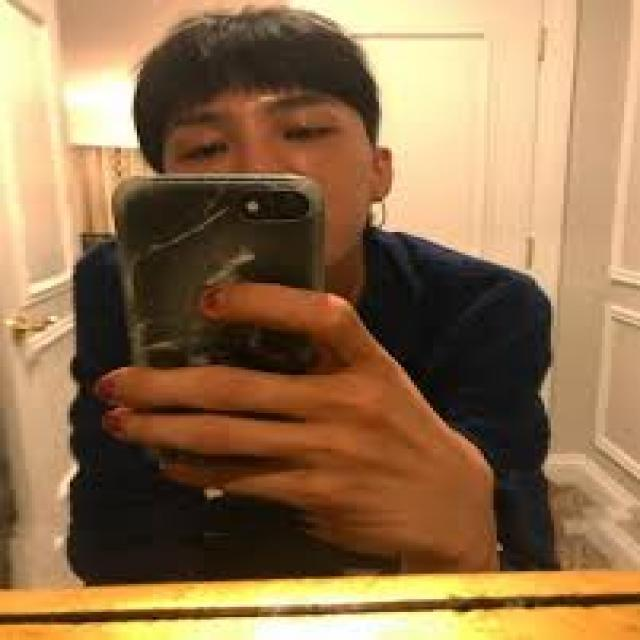Phone: (111, 170, 327, 464)
